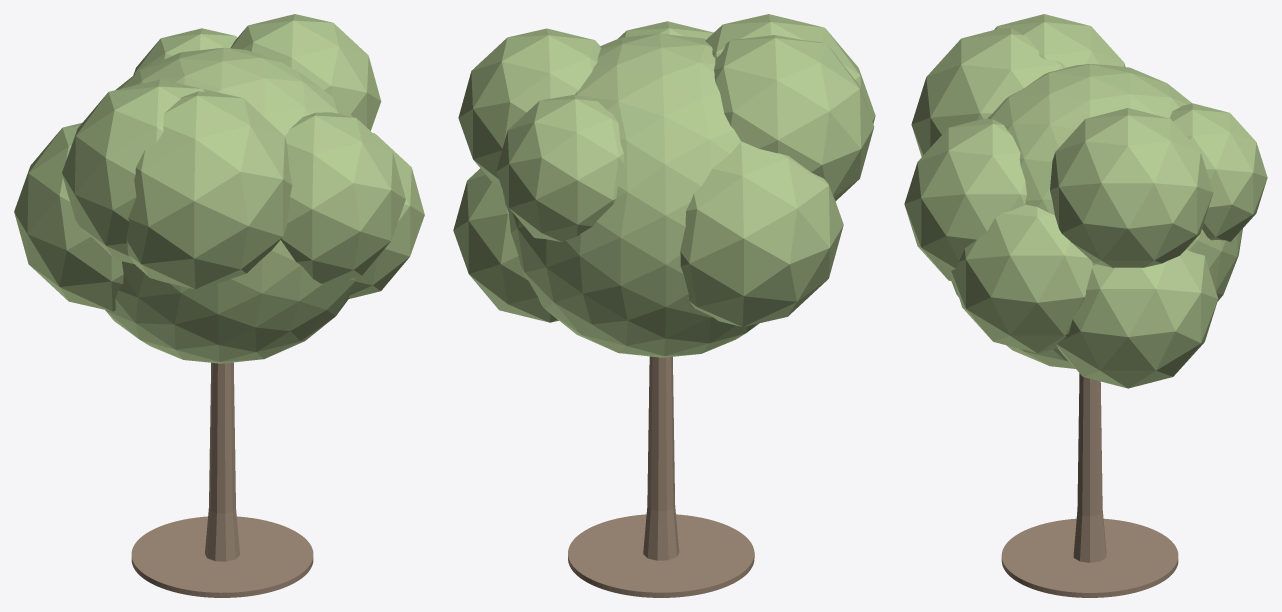
Rendered from tree_b.glb.
The picture shows the model from 3 angles, left to right: view 1: azimuth 30°, elevation 25°; view 2: azimuth 150°, elevation 25°; view 3: azimuth 270°, elevation 25°; orthographic projection. The views are drawn at different scales.
Visible parts, largest first — view 1: tree_b_leaf2, tree_b_mulch, tree_b_bark; view 2: tree_b_leaf2, tree_b_mulch, tree_b_bark; view 3: tree_b_leaf2, tree_b_mulch, tree_b_bark.
Part boxes in pixels (bbox=[...]): tree_b_leaf2: bbox=[14, 14, 424, 363]; tree_b_mulch: bbox=[131, 516, 313, 597]; tree_b_bark: bbox=[205, 362, 239, 561]; tree_b_leaf2: bbox=[453, 14, 875, 357]; tree_b_mulch: bbox=[568, 514, 754, 597]; tree_b_bark: bbox=[643, 356, 679, 560]; tree_b_leaf2: bbox=[904, 14, 1267, 388]; tree_b_mulch: bbox=[1001, 518, 1178, 597]; tree_b_bark: bbox=[1073, 373, 1106, 562].
Size of the model in its own units: 3.56 by 4.96 by 3.29.
